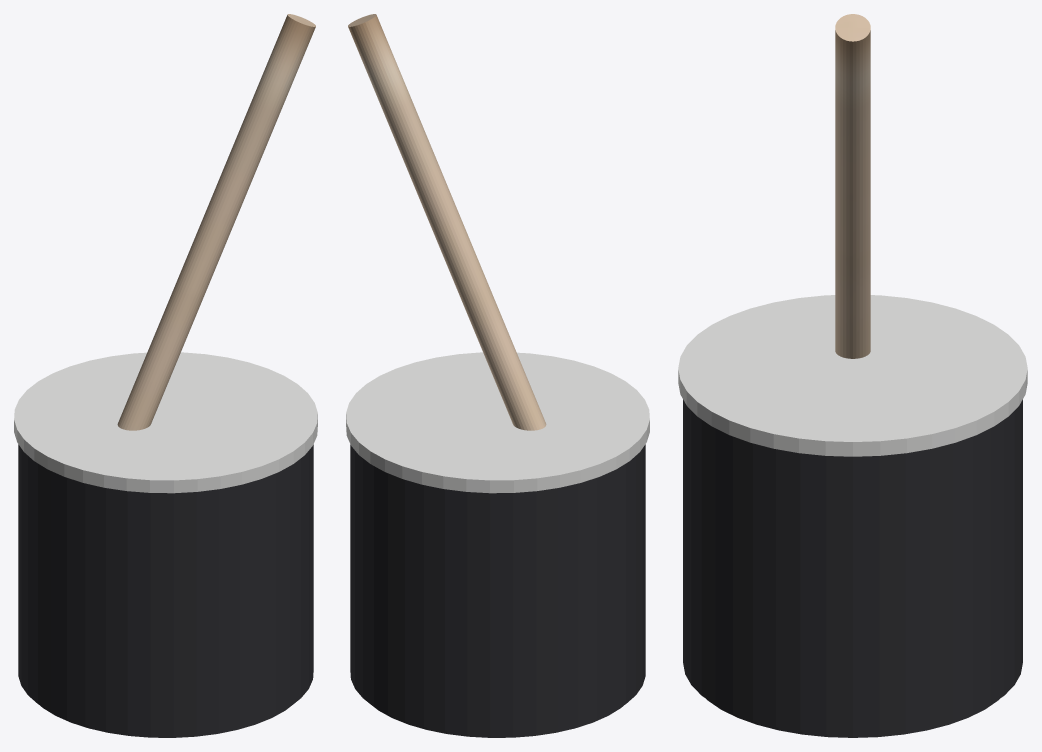
The model's file is nova-bucket-set-1.0.0.glb.
3 views of the same model, side by side, from view 1: azimuth 30°, elevation 25°; view 2: azimuth 150°, elevation 25°; view 3: azimuth 270°, elevation 25° (orthographic). The views are drawn at different scales.
Parts seen in each view (by area): view 1: bucket, bucket_rim, ladle_handle; view 2: bucket, bucket_rim, ladle_handle; view 3: bucket, bucket_rim, ladle_handle.
Part boxes in pixels (bbox=[...]): bucket: bbox=[18, 444, 313, 737]; bucket_rim: bbox=[14, 352, 317, 493]; ladle_handle: bbox=[117, 14, 315, 430]; bucket: bbox=[350, 444, 645, 737]; bucket_rim: bbox=[346, 352, 649, 493]; ladle_handle: bbox=[348, 14, 546, 430]; bucket: bbox=[683, 399, 1022, 737]; bucket_rim: bbox=[678, 295, 1027, 456]; ladle_handle: bbox=[835, 14, 870, 358].
Bounding box in the file's own units: 0.2292 × 0.4939 × 0.216.
3 materials, 1 textured.
